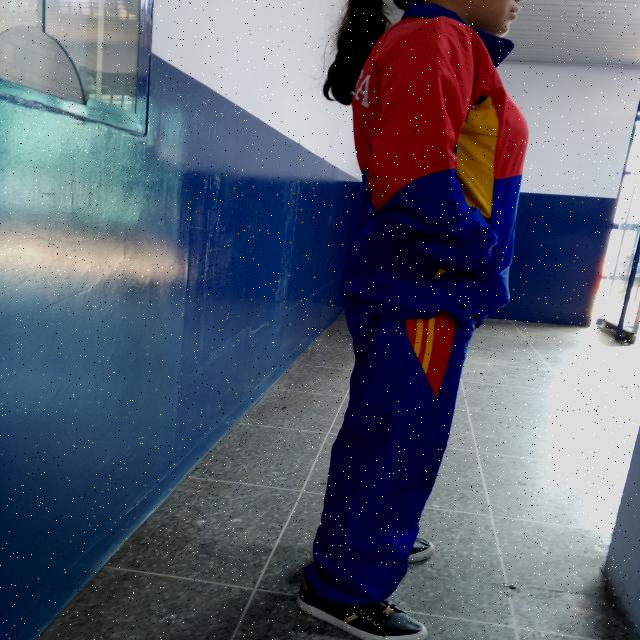chaqueta_unefa: (352, 0, 528, 320)
uniforme_superior: (302, 311, 489, 607)
